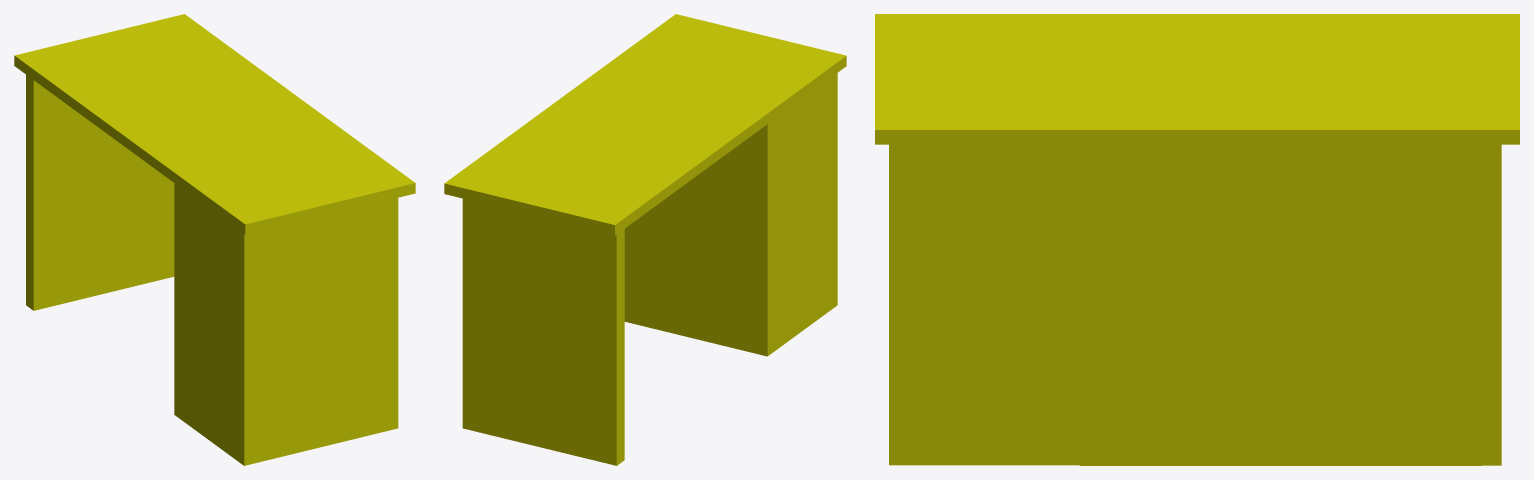
File: desk_v2-collider.dae
3 renders of one model, left to right at view 1: azimuth 30°, elevation 25°; view 2: azimuth 150°, elevation 25°; view 3: azimuth 270°, elevation 25°, orthographic. The views are drawn at different scales.
Parts seen in each view (by area): view 1: collider-desk-box_002, collider-desk-box_001, collider-desk-box_000; view 2: collider-desk-box_001, collider-desk-box_002, collider-desk-box_000; view 3: collider-desk-box_003, collider-desk-box_001, collider-desk-box_002, collider-desk-box_000.
Part boxes in pixels (x1,y1,x2,y2): collider-desk-box_002: (174,183,398,465); collider-desk-box_001: (14,14,415,234); collider-desk-box_000: (26,75,174,310); collider-desk-box_001: (444,14,846,235); collider-desk-box_002: (624,73,837,356); collider-desk-box_000: (462,198,624,465); collider-desk-box_003: (1079,144,1481,465); collider-desk-box_001: (875,14,1519,144); collider-desk-box_002: (889,144,1079,465); collider-desk-box_000: (1482,144,1501,465).
Size of the model in its own units: 0.7922 by 1.86 by 1.09.
